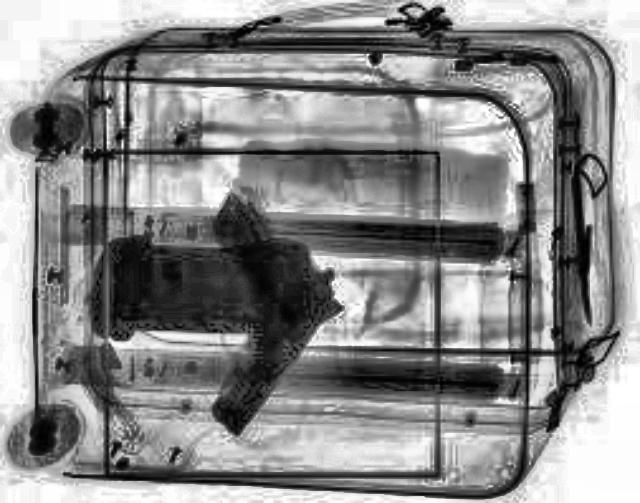Gun: (198, 187, 338, 437)
